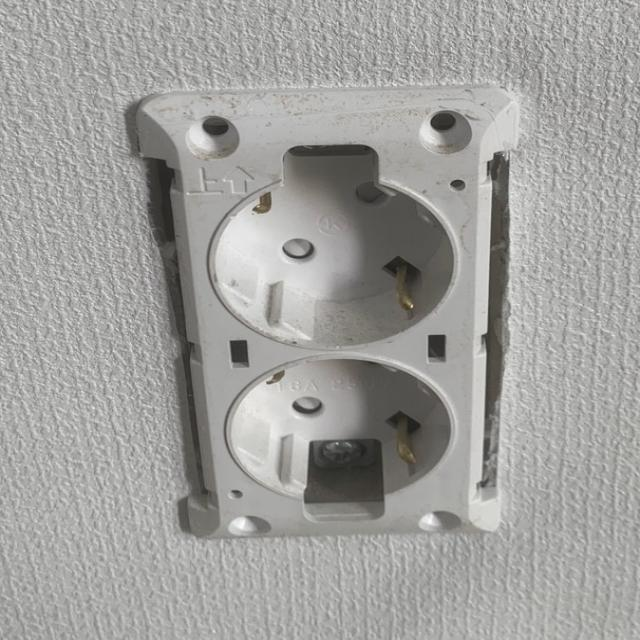typeb: (93, 69, 565, 564)
